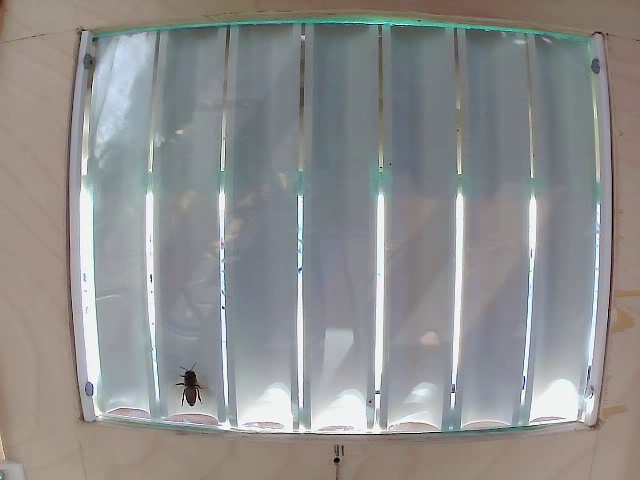bee: (169, 358, 216, 417)
